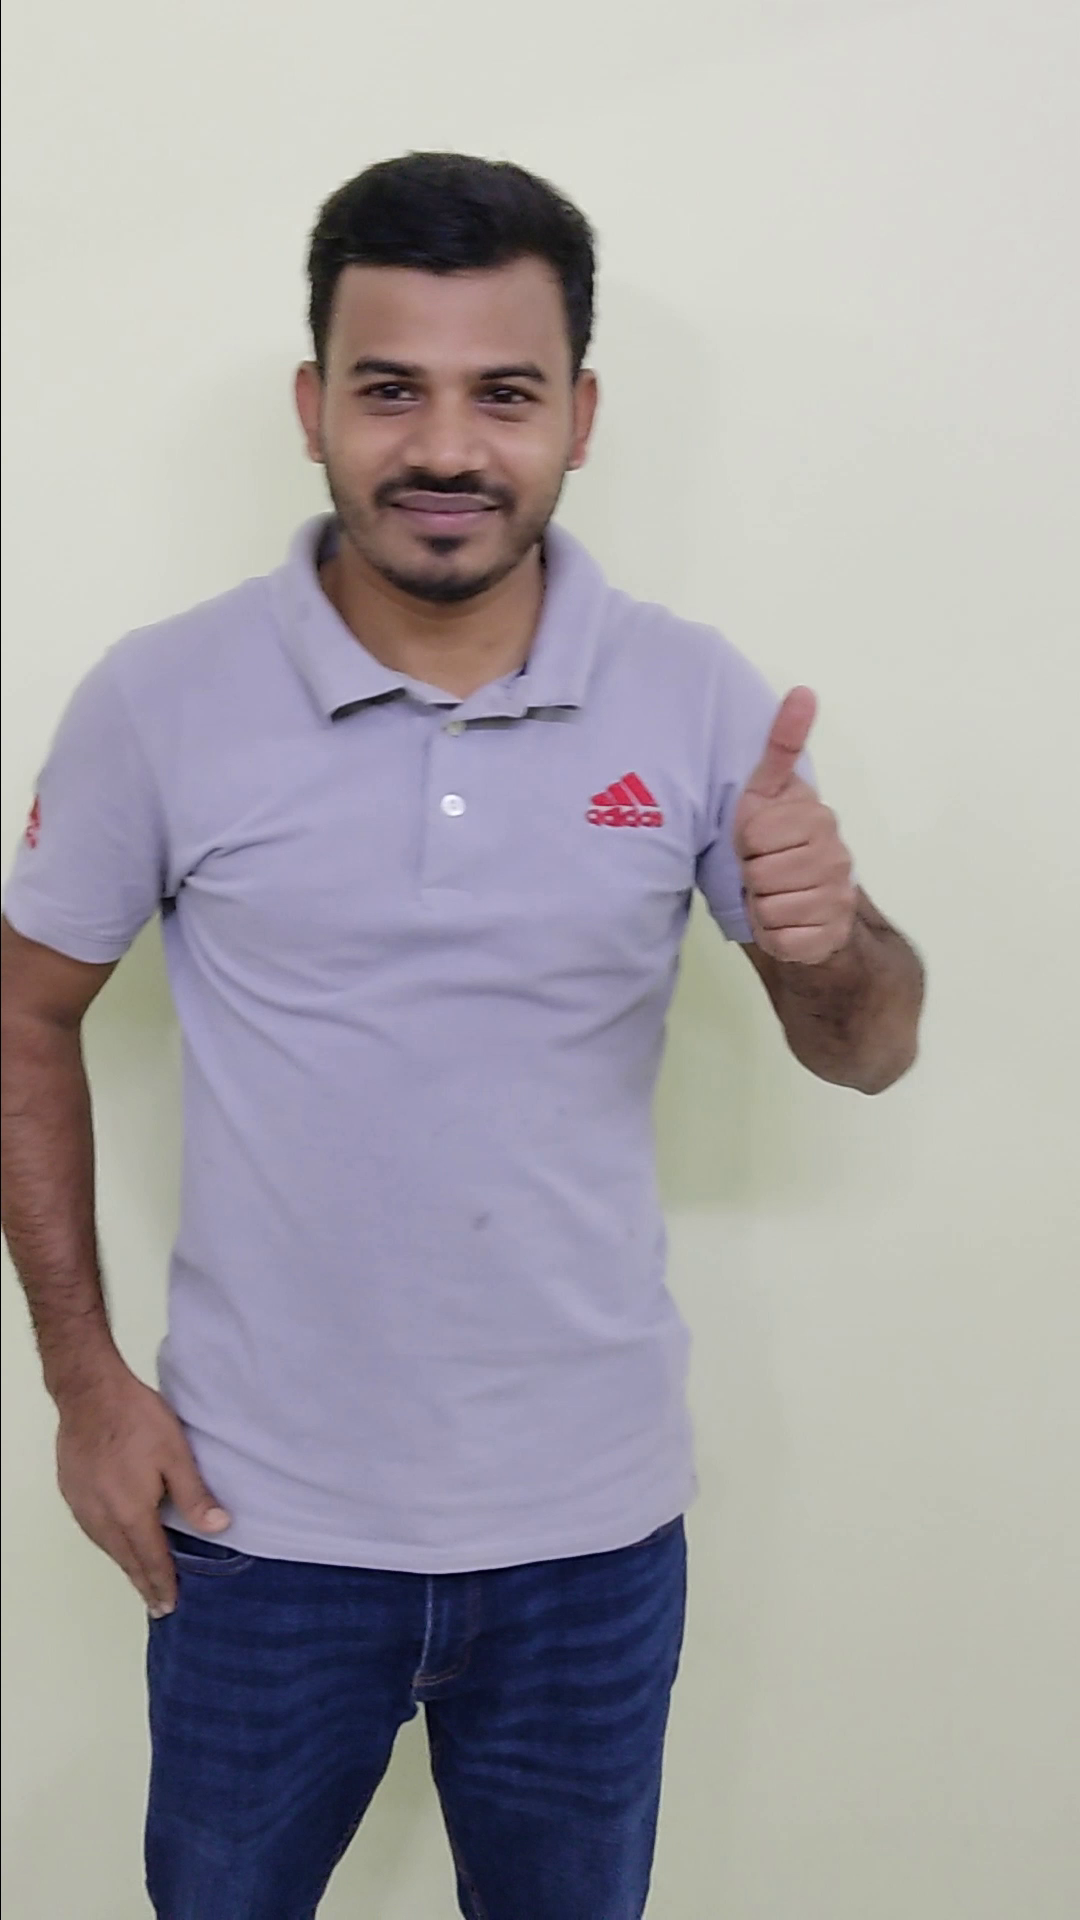Like: (683, 658, 909, 984)
None: (25, 1345, 240, 1636)
